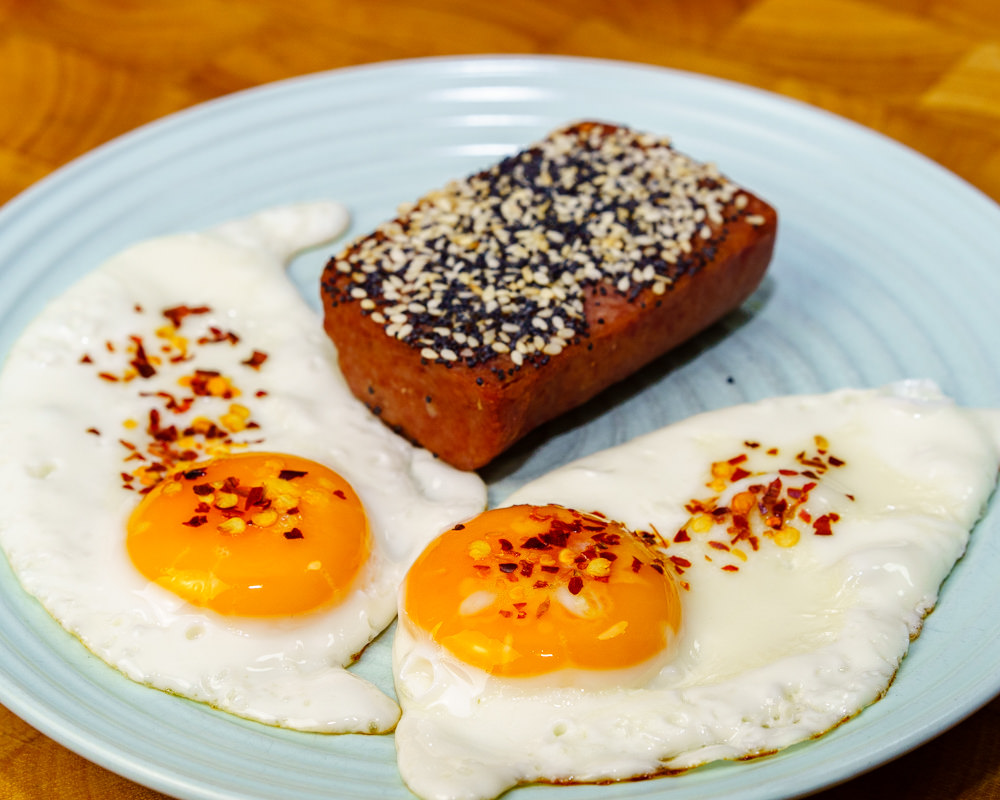fried egg: (392, 384, 991, 800), (15, 219, 455, 749)
